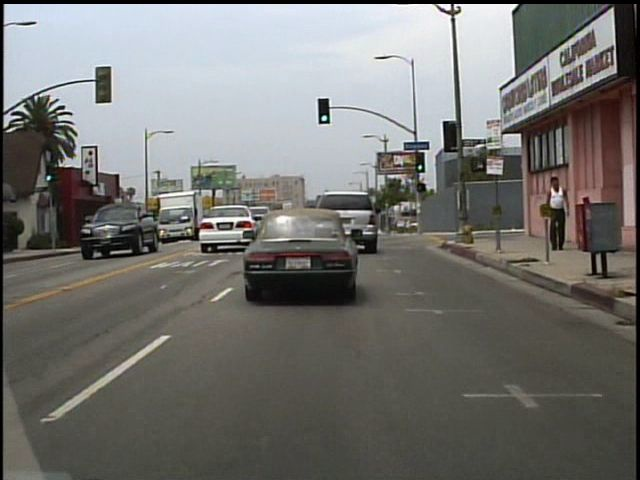person: (544, 173, 574, 254)
